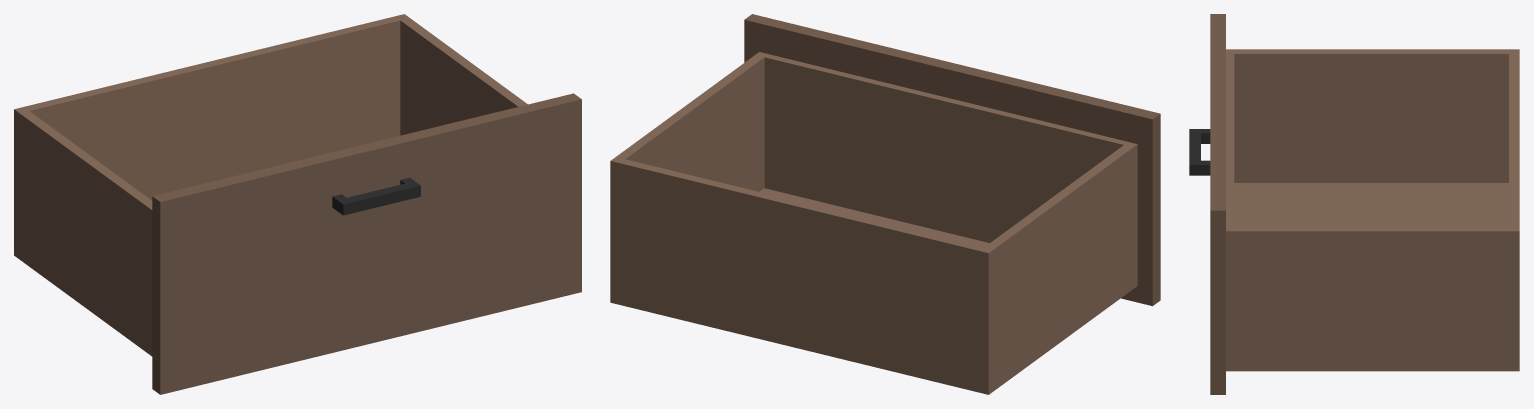
The model's file is TV_Table1_C2_02.fbx.
3 renders of one model, left to right at view 1: azimuth 30°, elevation 25°; view 2: azimuth 150°, elevation 25°; view 3: azimuth 270°, elevation 25°, orthographic. The views are drawn at different scales.
Parts seen in each view (by area): view 1: TV_Table1_C2_02; view 2: TV_Table1_C2_02; view 3: TV_Table1_C2_02.
Boxes of the visible parts, x1=… form: TV_Table1_C2_02: x1=14, y1=14, x2=581, y2=394; TV_Table1_C2_02: x1=610, y1=14, x2=1160, y2=394; TV_Table1_C2_02: x1=1189, y1=14, x2=1519, y2=394.
Bounding box in the file's own units: 59.97 × 26.22 × 42.61.
